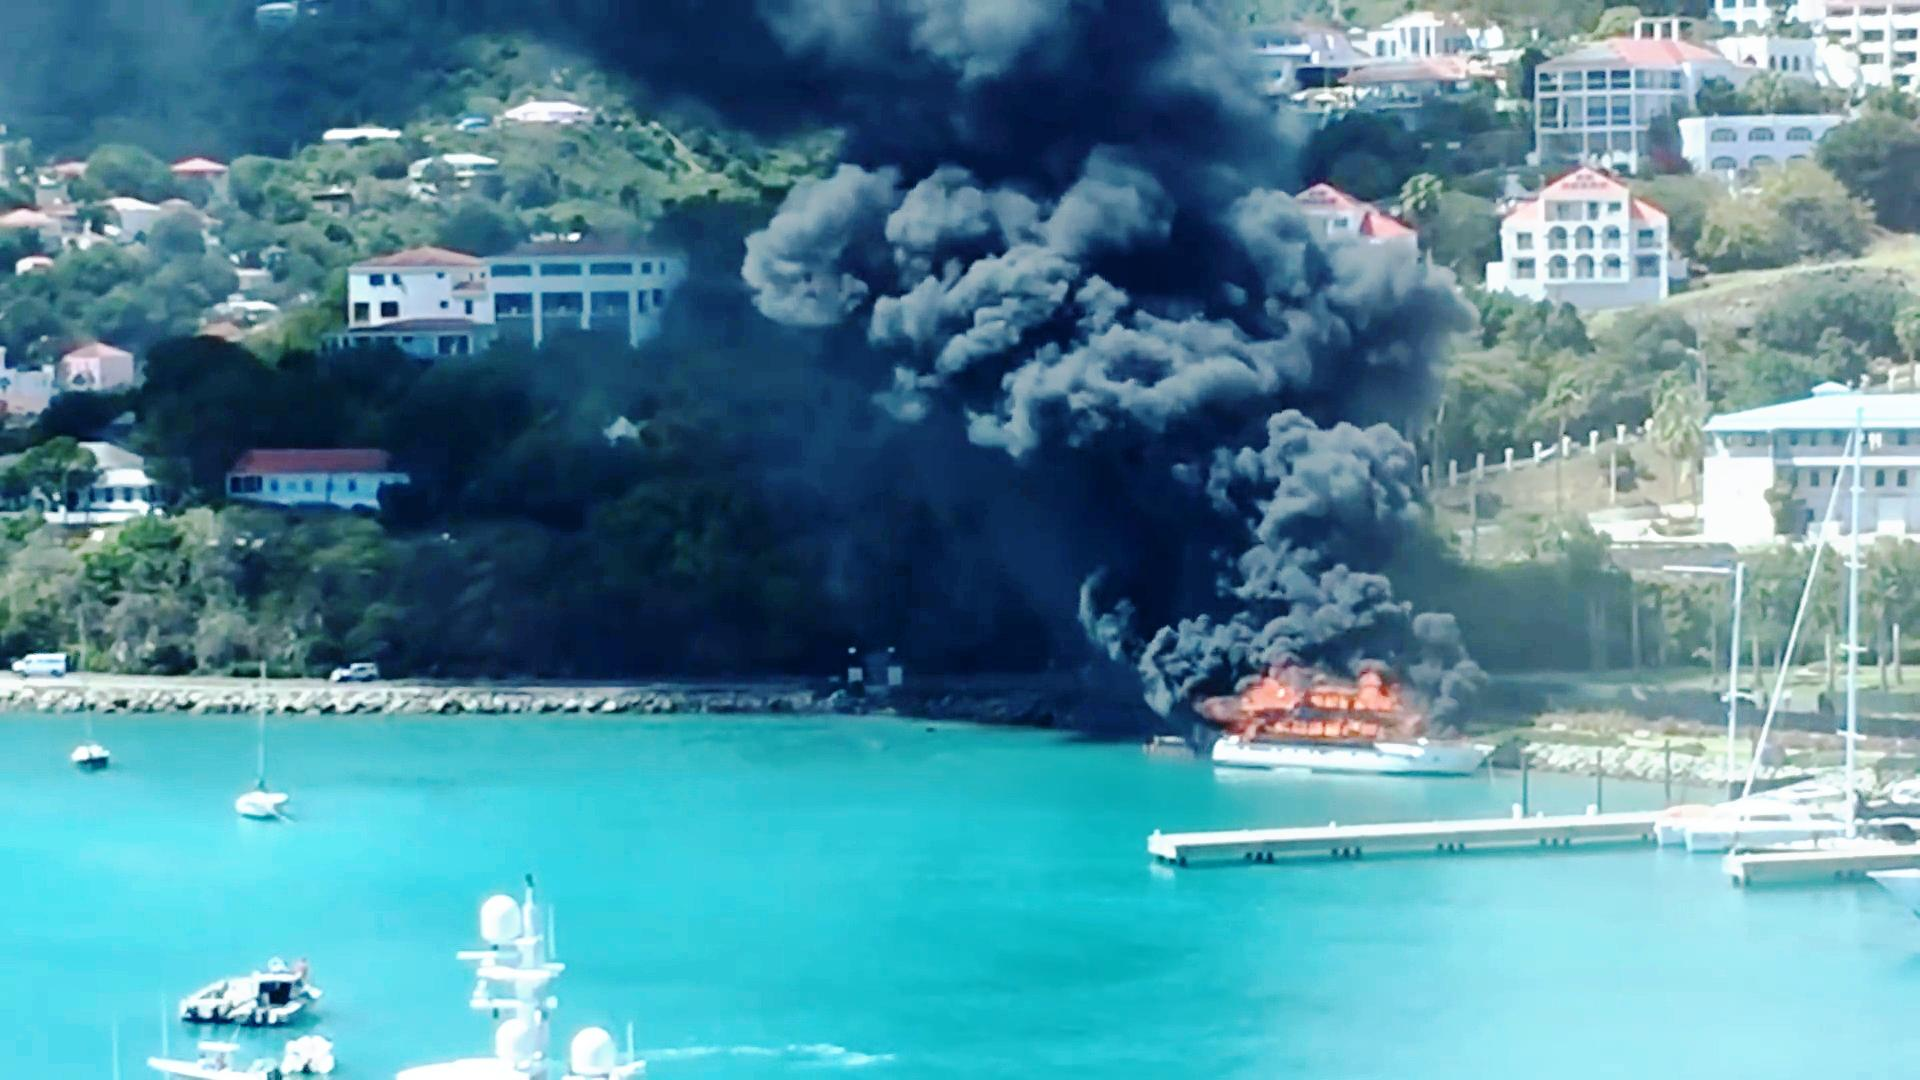fire: (1213, 649, 1395, 756)
smoke: (955, 58, 1335, 518)
